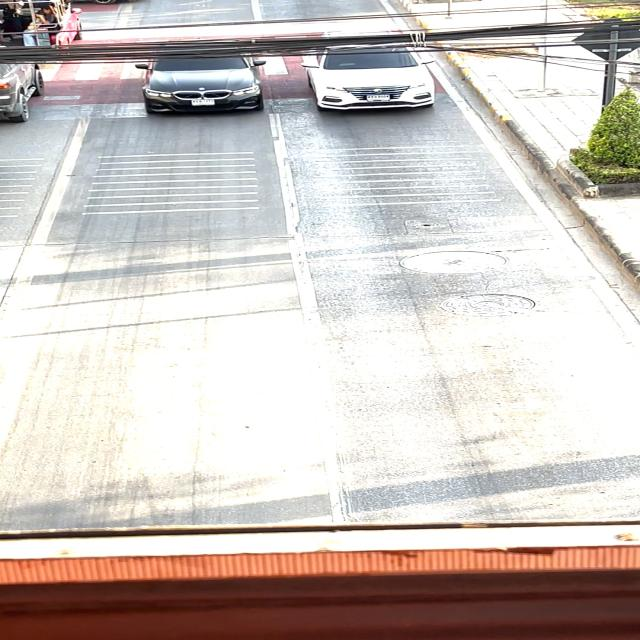car: (127, 34, 279, 124), (303, 34, 445, 120)
